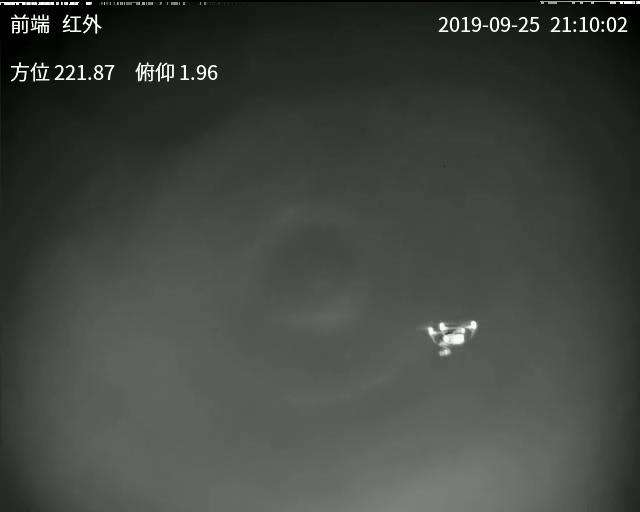uav: (418, 313, 480, 361)
